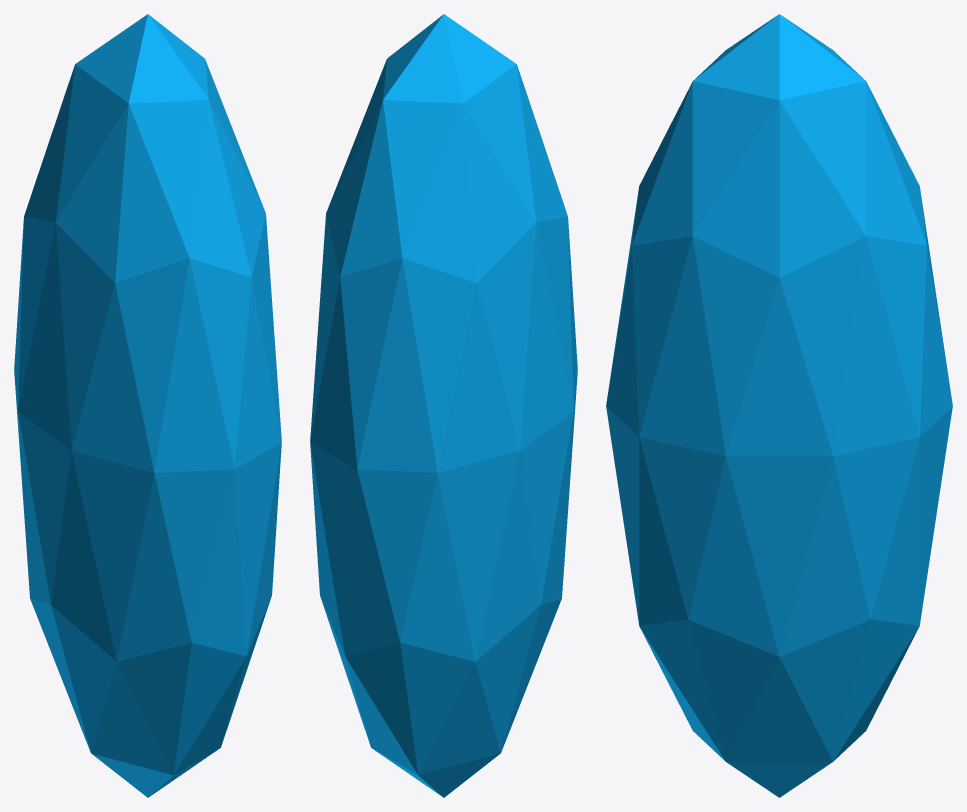
Rendered from diamond.fbx.
The picture shows the model from 3 angles, left to right: view 1: azimuth 30°, elevation 25°; view 2: azimuth 150°, elevation 25°; view 3: azimuth 270°, elevation 25°; orthographic projection.
Parts seen in each view (by area): view 1: Diamond; view 2: Diamond; view 3: Diamond.
Part boxes in pixels (<box>): Diamond: <box>14,14,281,797</box>; Diamond: <box>310,14,577,797</box>; Diamond: <box>606,14,952,797</box>.
Bounding box in the file's own units: 20.5 × 74.48 × 29.86.
